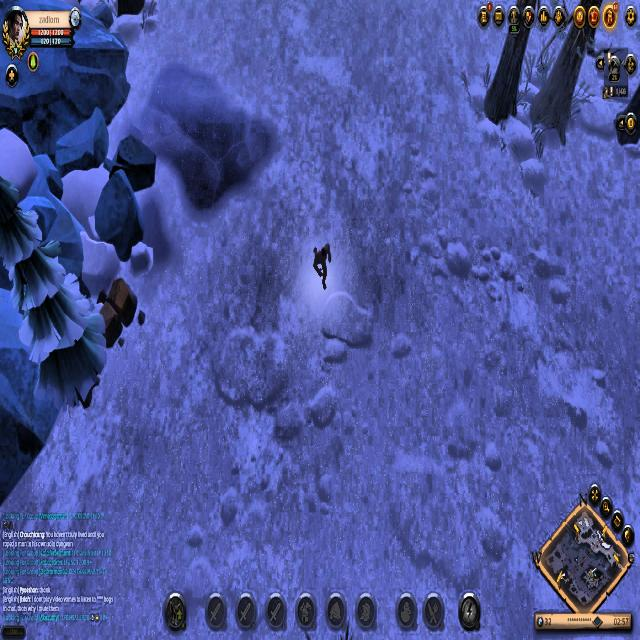limestone: (101, 273, 142, 353)
